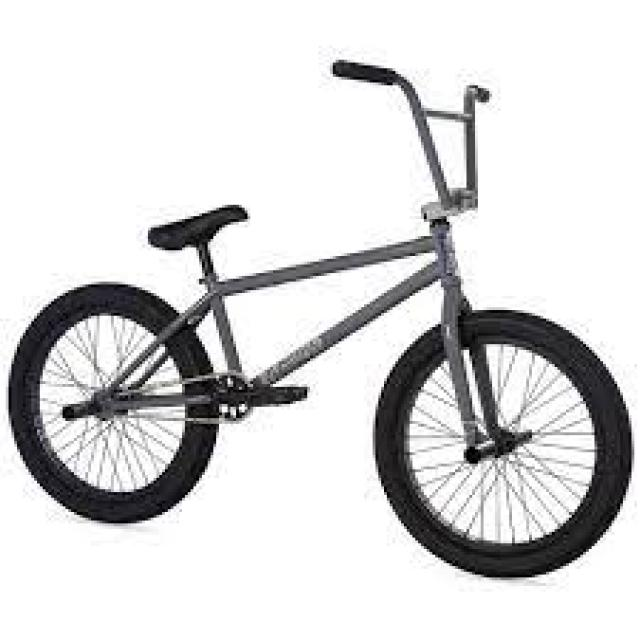bmx-bike: (8, 61, 634, 581)
